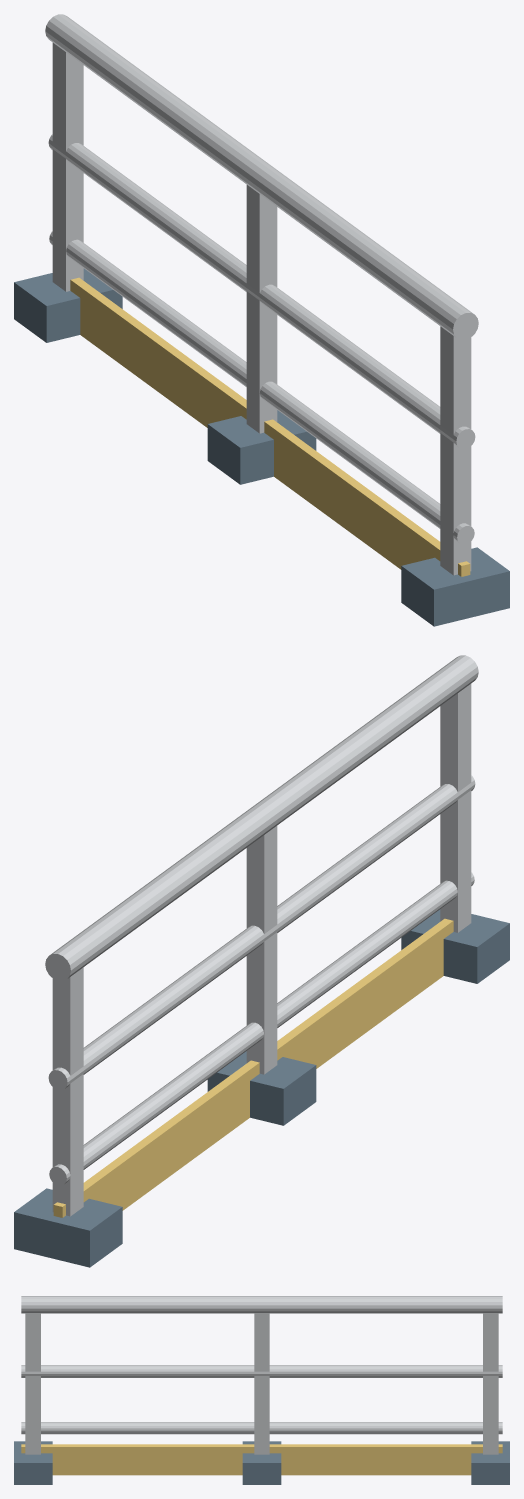
File: pressure_rail_4m.glb
3 views of the same model, one above another, from view 1: azimuth 30°, elevation 25°; view 2: azimuth 150°, elevation 25°; view 3: azimuth 270°, elevation 25° (orthographic). The views are drawn at different scales.
Parts seen in each view (by area): view 1: pressure_rail_4m_009, pressure_rail_4m_006, pressure_rail_4m_007, pressure_rail_4m_008, pressure_rail_4m_004, pressure_rail_4m_000, pressure_rail_4m_002, pressure_rail_4m_005, pressure_rail_4m_001, pressure_rail_4m_003; view 2: pressure_rail_4m_009, pressure_rail_4m_006, pressure_rail_4m_007, pressure_rail_4m_008, pressure_rail_4m_000, pressure_rail_4m_004, pressure_rail_4m_002, pressure_rail_4m_001, pressure_rail_4m_005, pressure_rail_4m_003; view 3: pressure_rail_4m_009, pressure_rail_4m_006, pressure_rail_4m_007, pressure_rail_4m_008, pressure_rail_4m_000, pressure_rail_4m_002, pressure_rail_4m_004, pressure_rail_4m_001, pressure_rail_4m_005, pressure_rail_4m_003.
Part boxes in pixels (left/top/right/bottom): pressure_rail_4m_009: left=70, top=277, right=470, bottom=576; pressure_rail_4m_006: left=45, top=14, right=478, bottom=339; pressure_rail_4m_007: left=48, top=134, right=475, bottom=449; pressure_rail_4m_008: left=49, top=231, right=474, bottom=544; pressure_rail_4m_004: left=440, top=326, right=471, bottom=575; pressure_rail_4m_000: left=52, top=43, right=83, bottom=291; pressure_rail_4m_002: left=246, top=185, right=277, bottom=433; pressure_rail_4m_005: left=401, top=547, right=509, bottom=626; pressure_rail_4m_001: left=14, top=268, right=122, bottom=342; pressure_rail_4m_003: left=207, top=410, right=316, bottom=484; pressure_rail_4m_009: left=53, top=918, right=453, bottom=1217; pressure_rail_4m_006: left=45, top=655, right=478, bottom=980; pressure_rail_4m_007: left=48, top=775, right=475, bottom=1090; pressure_rail_4m_008: left=49, top=872, right=474, bottom=1185; pressure_rail_4m_000: left=52, top=967, right=83, bottom=1216; pressure_rail_4m_004: left=440, top=684, right=471, bottom=932; pressure_rail_4m_002: left=246, top=826, right=277, bottom=1074; pressure_rail_4m_001: left=14, top=1188, right=122, bottom=1267; pressure_rail_4m_005: left=401, top=909, right=509, bottom=983; pressure_rail_4m_003: left=207, top=1051, right=316, bottom=1125; pressure_rail_4m_009: left=21, top=1444, right=502, bottom=1475; pressure_rail_4m_006: left=21, top=1296, right=502, bottom=1313; pressure_rail_4m_007: left=21, top=1365, right=502, bottom=1377; pressure_rail_4m_008: left=21, top=1422, right=502, bottom=1434; pressure_rail_4m_000: left=483, top=1313, right=498, bottom=1454; pressure_rail_4m_002: left=254, top=1313, right=269, bottom=1454; pressure_rail_4m_004: left=25, top=1313, right=40, bottom=1454; pressure_rail_4m_001: left=471, top=1441, right=509, bottom=1484; pressure_rail_4m_005: left=14, top=1441, right=52, bottom=1484; pressure_rail_4m_003: left=242, top=1441, right=281, bottom=1484.
Size of the model in its own units: 0.43 by 1.62 by 4.12.
